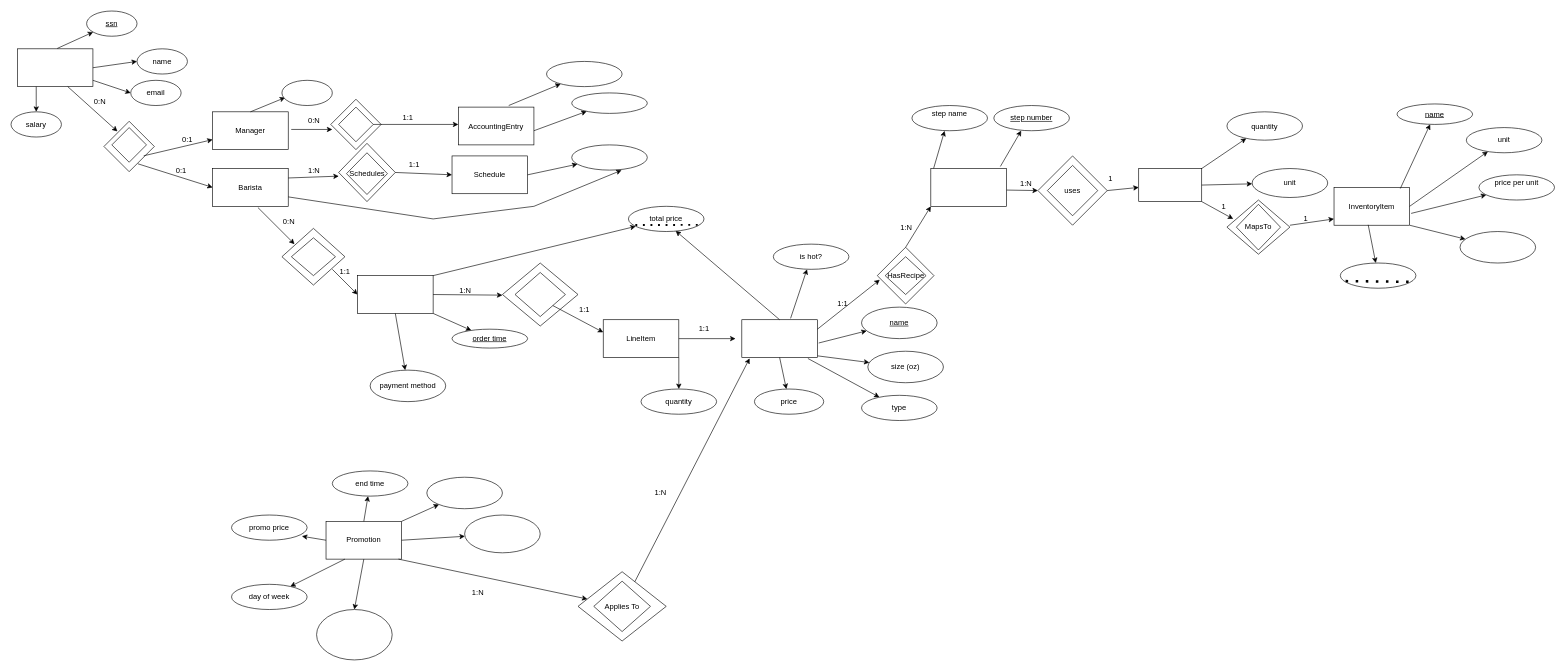
Image size: 1566x671. Some labels were removed from this diagram. Here are the shapes that lost their labels. From the top down, the centre of each, then its label:
At pixel 55 67: "Employee".
At pixel 584 74: "timestamp".
At pixel 306 93: "ownership %".
At pixel 609 102: "balance".
At pixel 128 144: "WorkAs".
At pixel 355 124: "Logs".
At pixel 609 157: "day/time".
At pixel 968 187: "Recipe".
At pixel 1170 185: "Ingredient".
At pixel 313 256: "Makes".
At pixel 1497 247: "in stock quantity".
At pixel 395 294: "Order".
At pixel 539 294: "includes".
At pixel 1378 275: "inventory value".
At pixel 779 338: "MenuItem".
At pixel 464 493: "description".
At pixel 502 533: "start time".
At pixel 354 634: "promo id".
